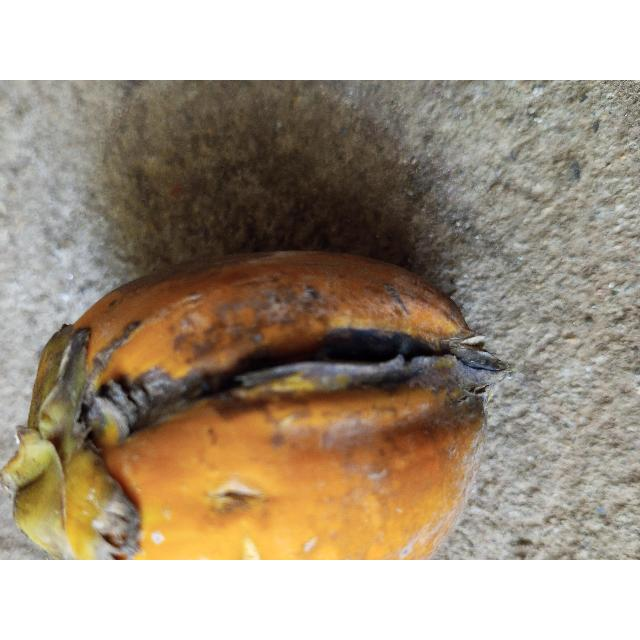damaged: (0, 251, 509, 560)
